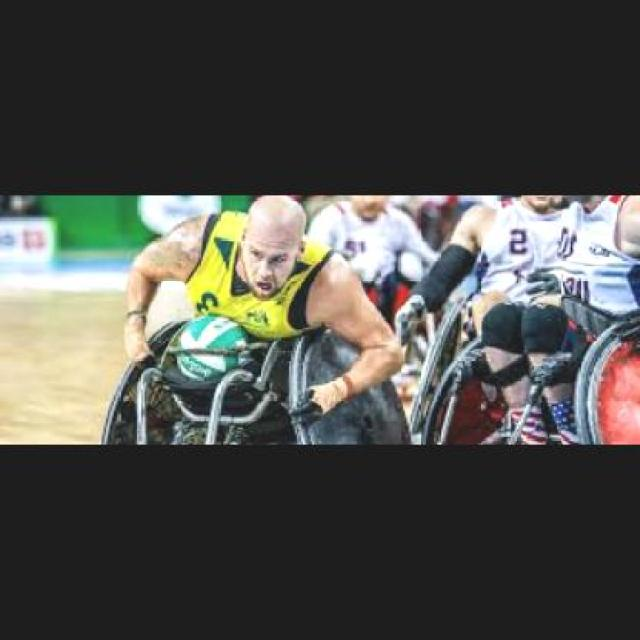wheelchairs: (97, 306, 413, 442), (424, 308, 638, 446)
